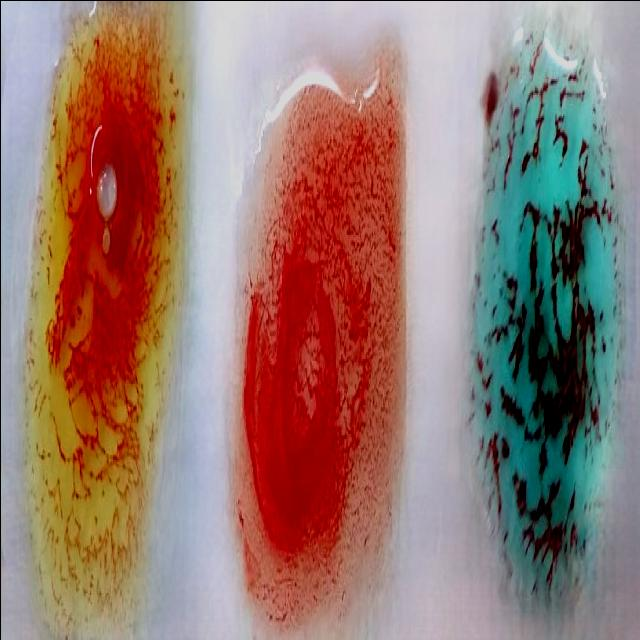A: (475, 53, 609, 614)
B: (31, 0, 177, 640)
D: (230, 43, 402, 640)
